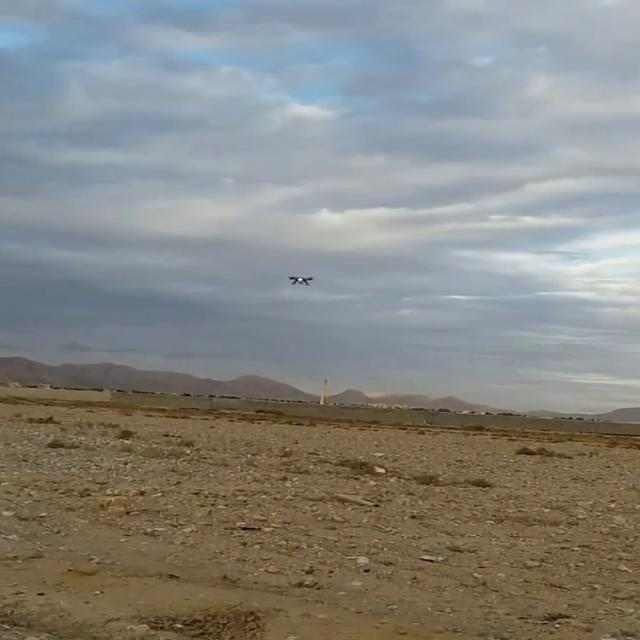drone: (283, 269, 319, 287)
